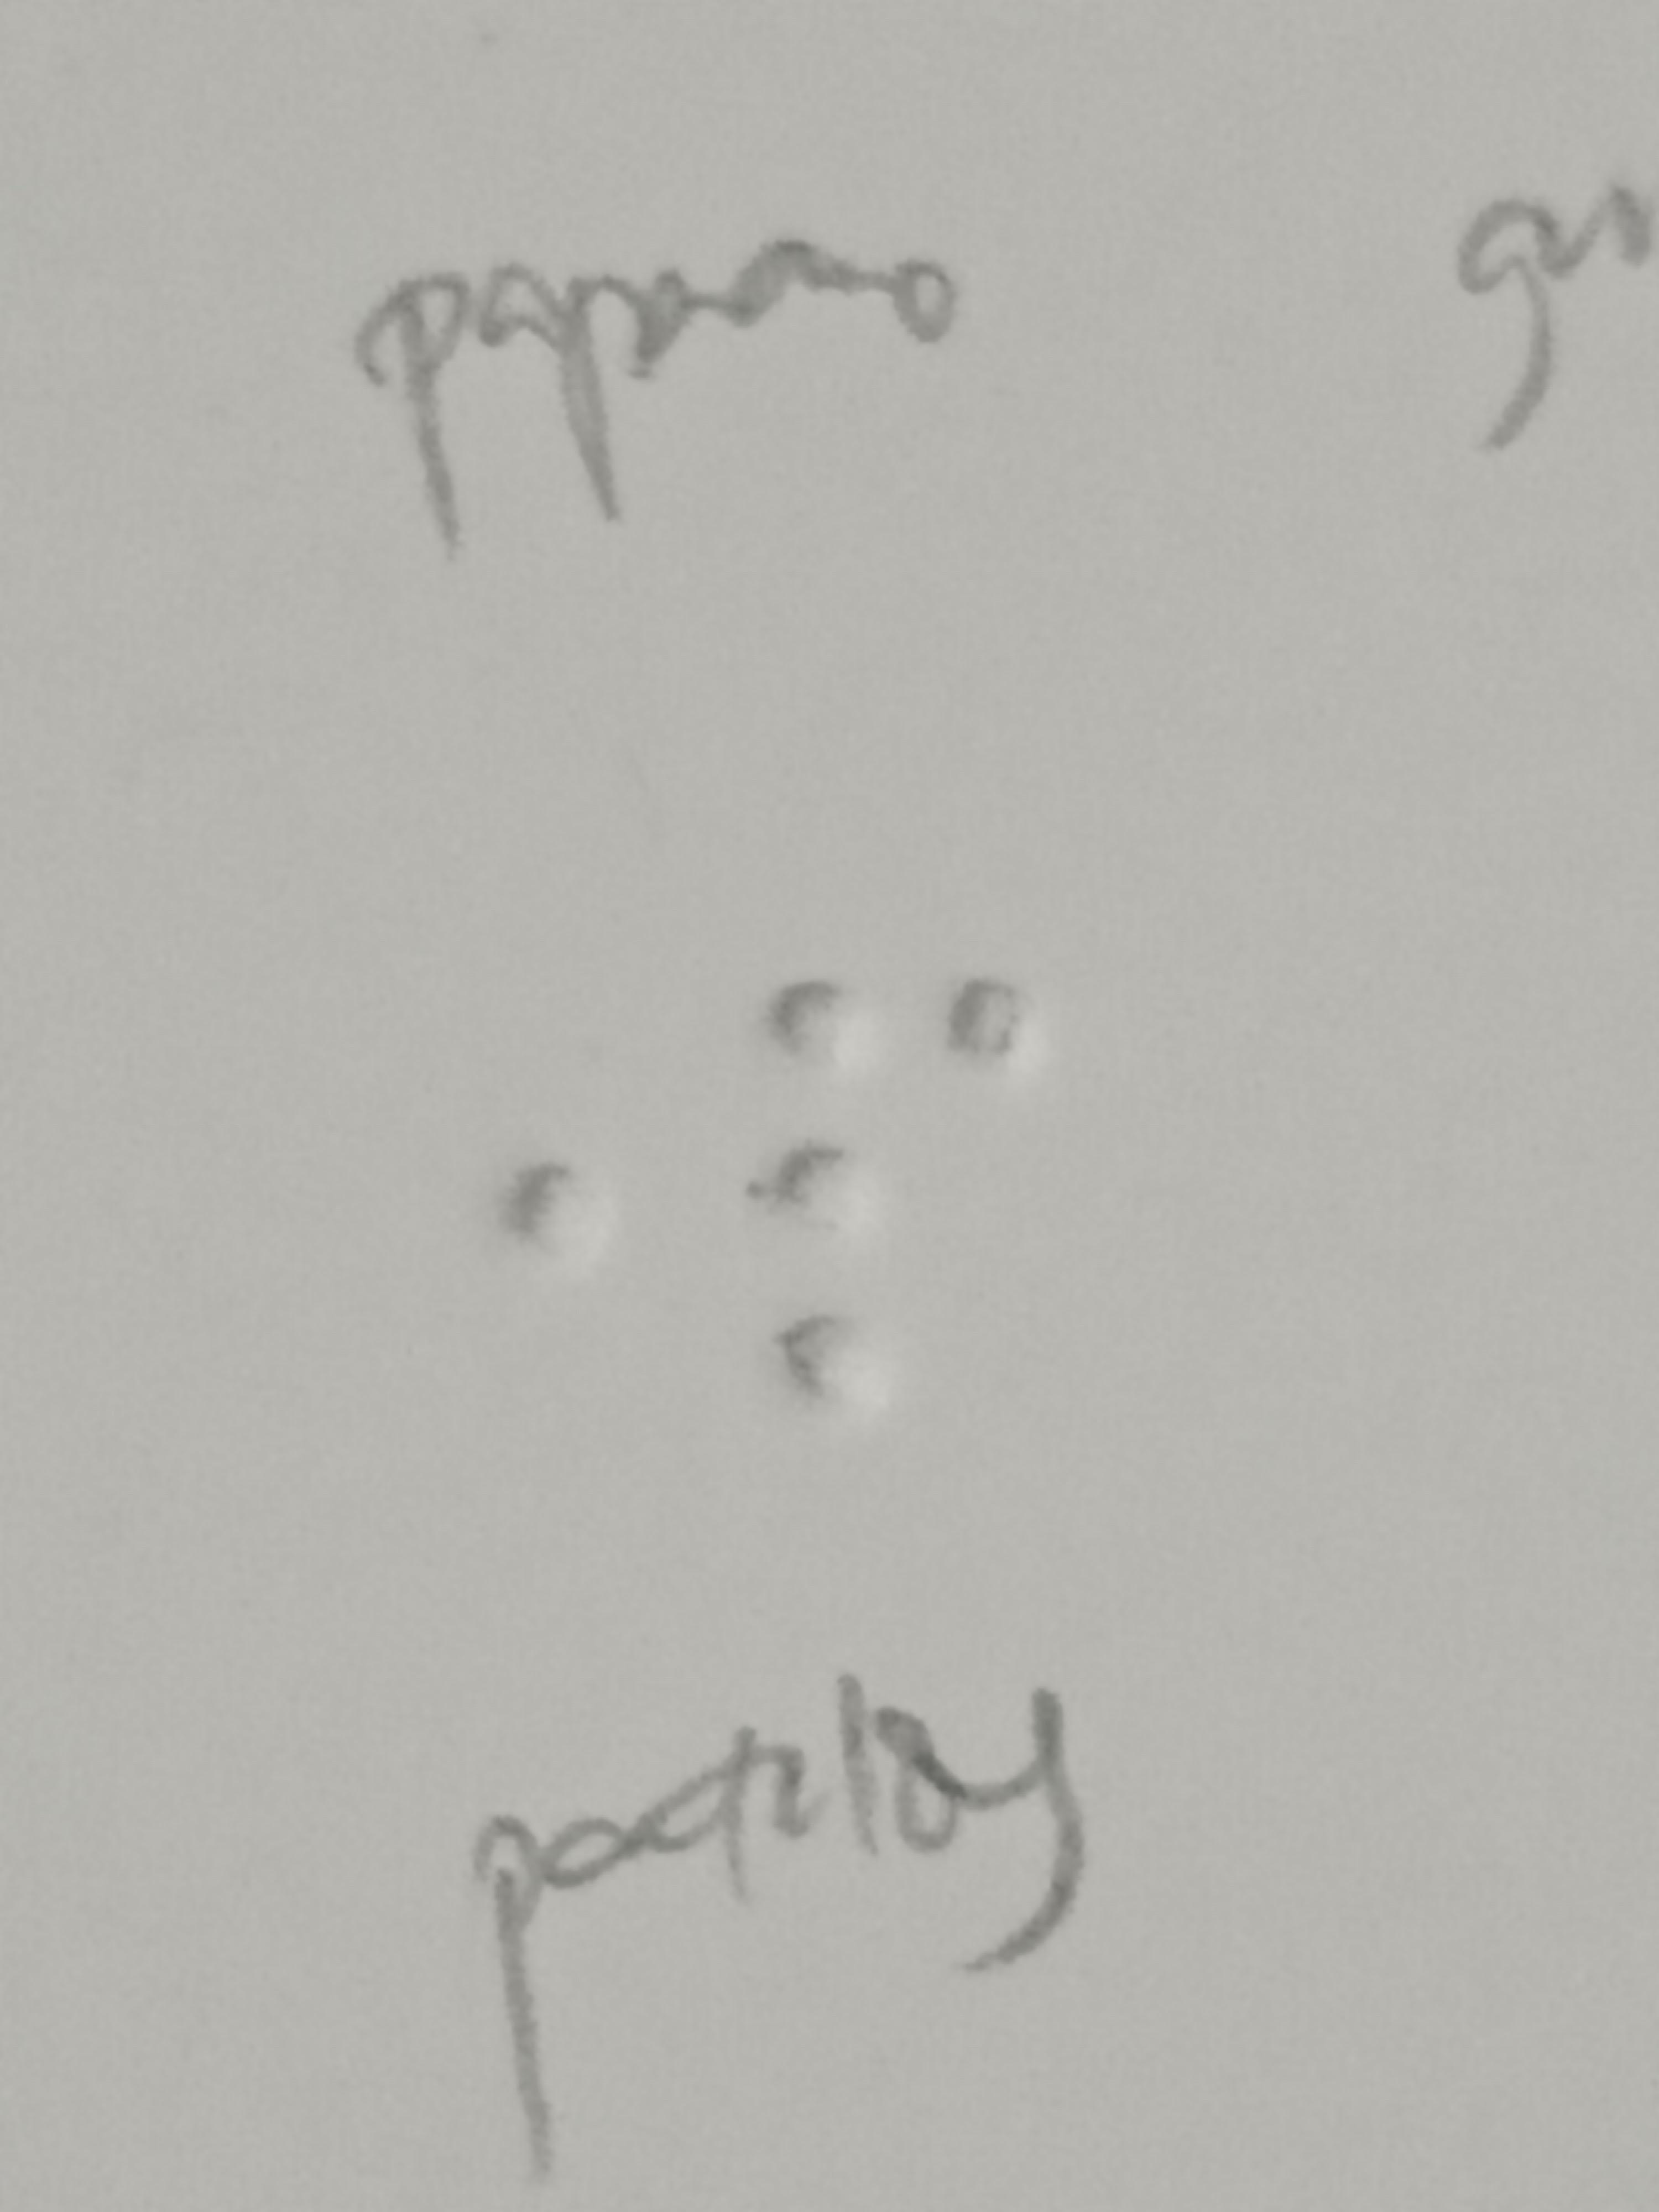dot_5: (312, 975, 606, 1437)
two_cell_alphabet_patuloy: (758, 958, 1053, 1420)
